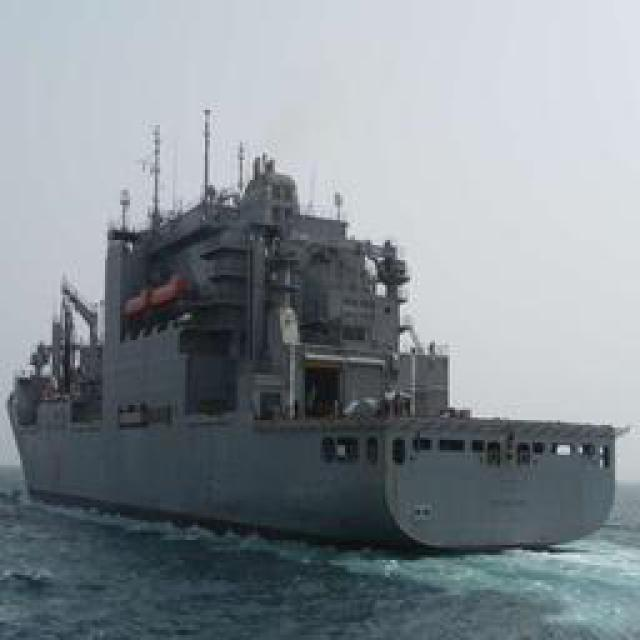Ship: (17, 120, 615, 558)
